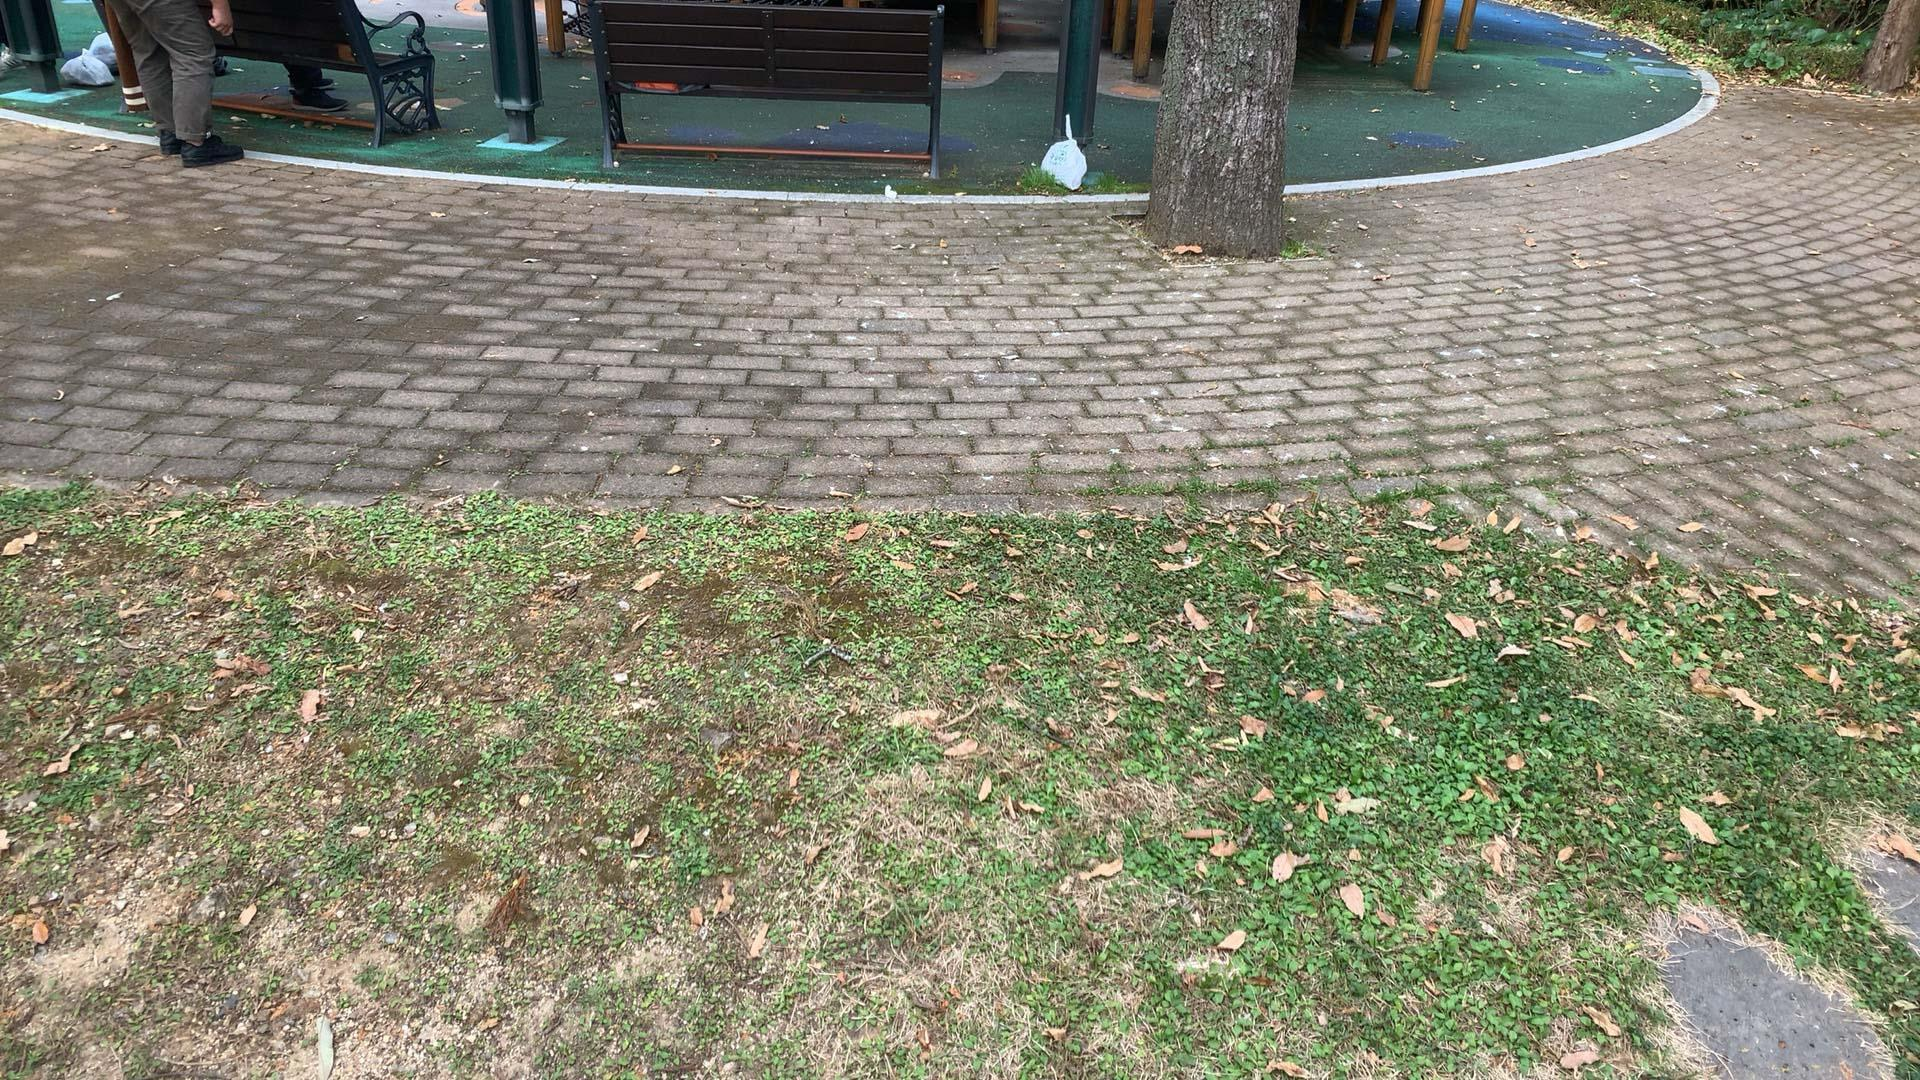white_bag: (1033, 109, 1095, 193)
